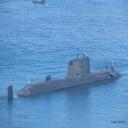submarine: (8, 55, 123, 102)
